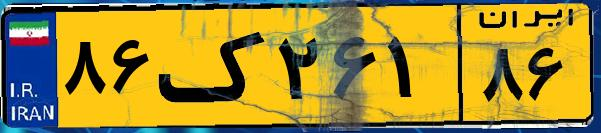1: (385, 28, 445, 110)
2: (270, 28, 330, 110)
6: (330, 28, 385, 110), (525, 38, 570, 115), (110, 28, 158, 98)
8: (57, 26, 110, 100), (475, 38, 525, 113)
ک: (158, 12, 270, 120)
